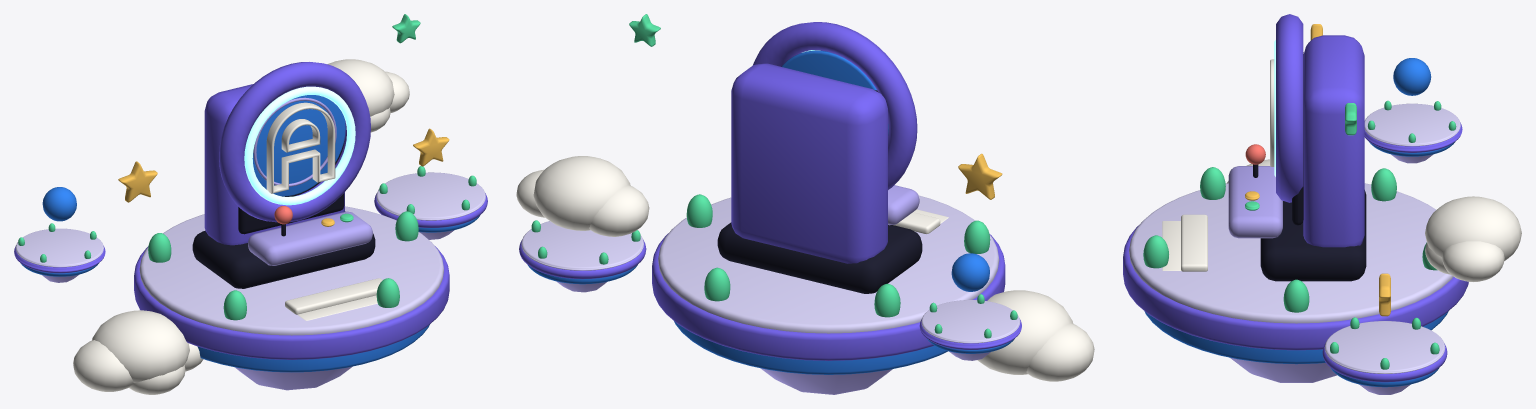
File: portal.glb
3 views of the same model, side by side, from view 1: azimuth 30°, elevation 25°; view 2: azimuth 150°, elevation 25°; view 3: azimuth 270°, elevation 25° (orthographic). The views are drawn at different scales.
Parts seen in each view (by area): view 1: Island pale top, Portal rim, Island violet rim, Cloud.001, Portal foot, Arcade cabinet, Portal interior, Control console, Island pale top.001, Gateway A portal emblem, Portal light, Island blue underside (+20 smaller); view 2: Arcade cabinet, Island pale top, Island violet rim, Portal rim, Portal foot, Cloud.005, Island pale top.001, Cloud.001, Island blue underside, Island pale top.002, Cloud, Cloud.004 (+15 smaller); view 3: Island pale top, Arcade cabinet, Island violet rim, Portal rim, Island pale top.001, Portal foot, Cloud.005, Control console, Island pale top.002, Island blue underside, Cloud.006, Floating rock (+14 smaller).
Part boxes in pixels (x1,y1,x2,y2): Island pale top: [139, 206, 443, 335]; Portal rim: [219, 62, 370, 222]; Island violet rim: [134, 246, 449, 359]; Cloud.001: [92, 310, 189, 382]; Portal foot: [192, 211, 375, 288]; Arcade cabinet: [204, 84, 344, 245]; Portal interior: [252, 95, 345, 196]; Control console: [248, 211, 372, 265]; Island pale top.001: [376, 172, 485, 220]; Gateway A portal emblem: [266, 102, 335, 193]; Portal light: [244, 86, 355, 205]; Island blue underside: [197, 324, 429, 372]; Arcade cabinet: [731, 63, 887, 263]; Island pale top: [658, 195, 999, 333]; Island violet rim: [652, 233, 1005, 360]; Portal rim: [753, 22, 917, 189]; Portal foot: [717, 222, 922, 293]; Cloud.005: [533, 156, 630, 230]; Island pale top.001: [521, 221, 643, 270]; Cloud.001: [977, 290, 1073, 374]; Island blue underside: [674, 321, 947, 374]; Island pale top.002: [921, 300, 1020, 343]; Cloud: [1026, 323, 1094, 381]; Cloud.004: [589, 185, 649, 236]; Island pale top: [1129, 183, 1453, 323]; Arcade cabinet: [1303, 35, 1364, 247]; Island violet rim: [1123, 225, 1468, 350]; Portal rim: [1276, 14, 1303, 202]; Island pale top.001: [1324, 321, 1445, 373]; Portal foot: [1260, 190, 1366, 281]; Cloud.005: [1425, 196, 1521, 260]; Control console: [1228, 166, 1282, 238]; Island pale top.002: [1364, 103, 1460, 146]; Island blue underside: [1144, 311, 1448, 364]; Cloud.006: [1442, 241, 1504, 281]; Floating rock: [1230, 357, 1336, 382].
Size of the model in its own units: 8.44 by 5.54 by 5.86.
